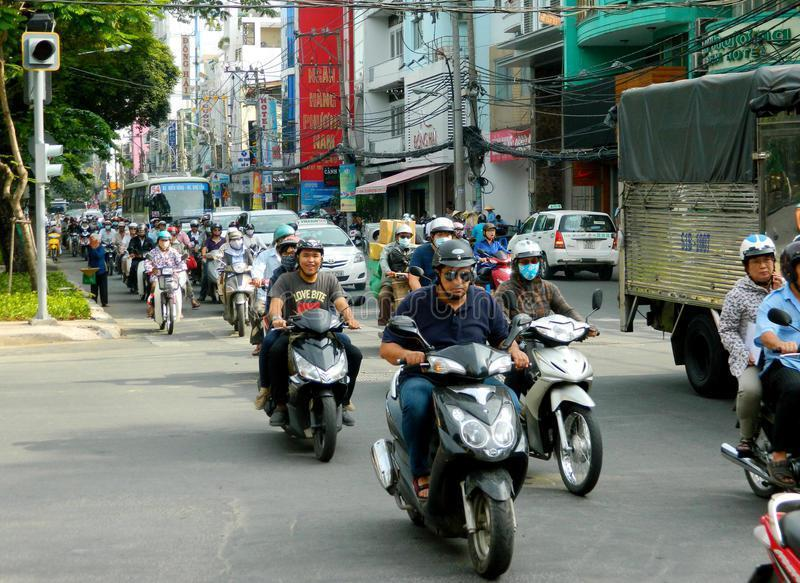motorcycle: (370, 306, 543, 570), (524, 282, 612, 506), (256, 288, 364, 466), (719, 308, 792, 498), (136, 252, 194, 334), (208, 255, 266, 333)
